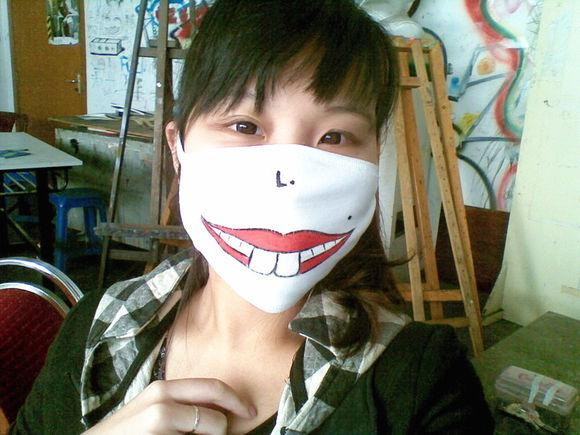OK: (186, 83, 404, 301)
